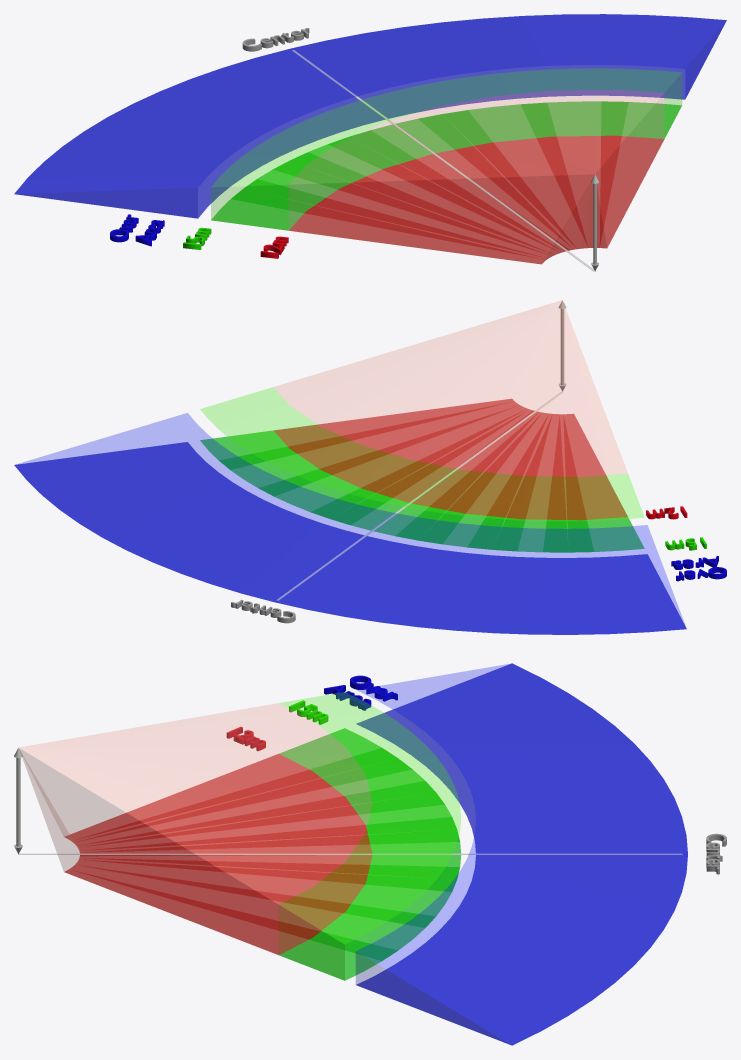
File: area_12.glb
3 renders of one model, top to bottom at view 1: azimuth 30°, elevation 25°; view 2: azimuth 150°, elevation 25°; view 3: azimuth 270°, elevation 25°, orthographic. The views are drawn at different scales.
Visible parts, largest first — view 1: defaultobject.001, defaultobject.003, defaultobject.002, 立方体, テキスト.002, テキスト.003; view 2: defaultobject.001, defaultobject.003, defaultobject.002, テキスト.002, 立方体, テキスト.003; view 3: defaultobject.001, defaultobject.003, defaultobject.002, 立方体, テキスト.002, テキスト.003.
Part boxes in pixels (x1,y1,x2,y2): defaultobject.001: (14,14,726,218); defaultobject.003: (289,90,664,264); defaultobject.002: (211,68,681,230); 立方体: (292,50,595,271); テキスト.002: (110,214,164,246); テキスト.003: (242,28,309,51); defaultobject.001: (14,413,686,634); defaultobject.003: (273,300,627,520); defaultobject.002: (200,387,644,552); テキスト.002: (671,556,726,581); 立方体: (276,391,563,600); テキスト.003: (231,599,295,623); defaultobject.001: (356,663,687,1045); defaultobject.003: (19,703,372,954); defaultobject.002: (279,692,461,980); 立方体: (18,853,682,854); テキスト.002: (324,675,397,710); テキスト.003: (706,833,726,874).
Bounding box in the file's own units: 30.65 × 4.1 × 24.16.
